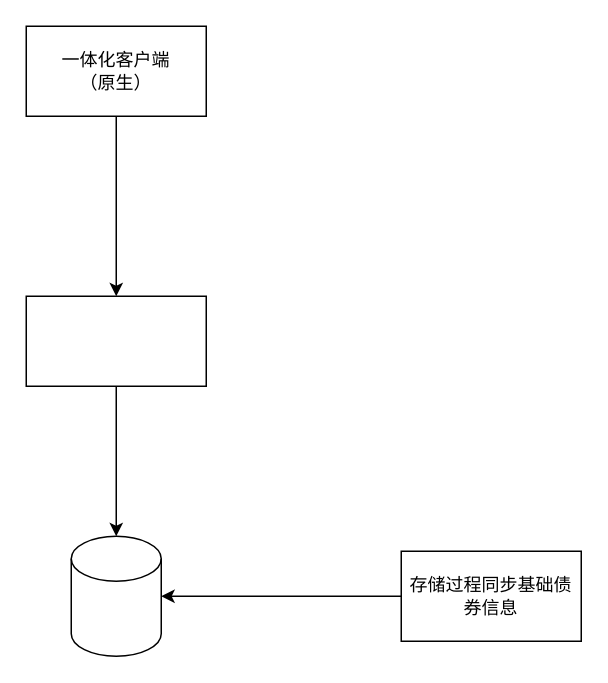
Some shapes in this 608 by 683 pixel diagram are drawn without their labels. Each missing label, with the box of its shape:
DB: (70, 535, 161, 656)
微服务: (25, 295, 206, 386)
